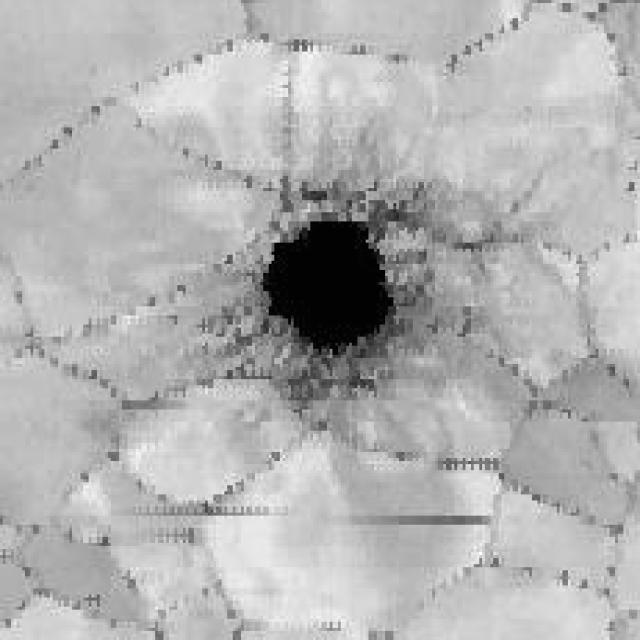good_void: (207, 197, 423, 410)
